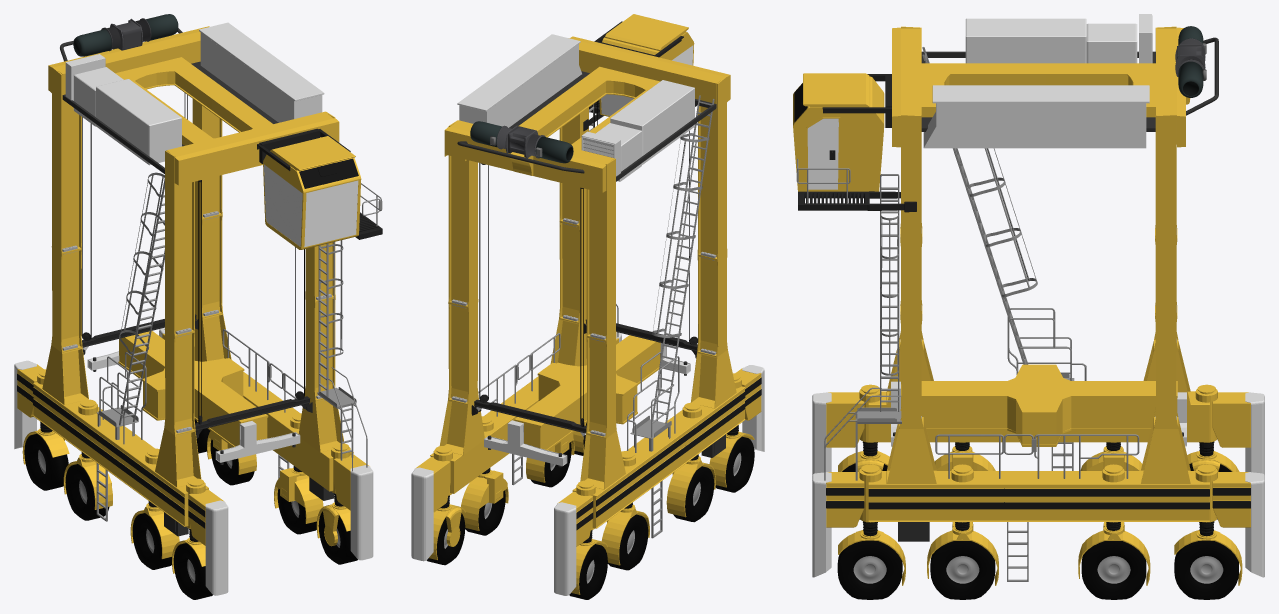
File: straddle carrier1.fbx
The picture shows the model from 3 angles, left to right: view 1: azimuth 30°, elevation 25°; view 2: azimuth 150°, elevation 25°; view 3: azimuth 270°, elevation 25°; orthographic projection. The views are drawn at different scales.
Parts seen in each view (by area): view 1: Cube.012, Plane.012, Cube.076, Cube.053, Cube.135, Cube.018, Cube.082, Cube.089, Cube.067, Cube.100, Cube, Cube.090 (+40 smaller); view 2: Cube.012, Plane.012, Cube.076, Cube.135, Cube.053, Cube.089, Cube.072, Cube.082, Cube.067, Cube.073, Cube.090, Cube.083 (+41 smaller); view 3: Cube, Cube.053, Cube.135, Cube.012, Plane.012, Cube.100, Cube.067, Cube.072, Cube.043, Cube.076, Cylinder, Cylinder.028 (+29 smaller).
Part boxes in pixels (x1,y1,x2,y2): Cube.012: (48, 26, 339, 185); Plane.012: (96, 172, 382, 521); Cube.076: (33, 382, 208, 526); Cube.053: (199, 22, 324, 122); Cube.135: (118, 331, 268, 447); Cube.018: (264, 164, 358, 247); Cube.082: (164, 150, 194, 336); Cube.089: (51, 67, 81, 253); Cube.067: (96, 79, 181, 165); Cube.100: (263, 136, 361, 249); Cube: (243, 372, 353, 491); Cube.090: (51, 247, 82, 352); Cube.012: (444, 36, 730, 192); Plane.012: (478, 95, 714, 538); Cube.076: (572, 386, 745, 528); Cube.135: (514, 335, 660, 450); Cube.053: (457, 34, 581, 127); Cube.089: (586, 158, 616, 341); Cube.072: (448, 120, 478, 307); Cube.082: (697, 76, 727, 259); Cube.067: (610, 80, 694, 164); Cube.073: (448, 301, 478, 404); Cube.090: (586, 335, 616, 438); Cube.083: (697, 253, 727, 357); Cube: (868, 471, 1209, 521); Cube.053: (923, 85, 1149, 148); Cube.135: (901, 364, 1177, 446); Cube.012: (892, 27, 1185, 147); Plane.012: (796, 47, 1139, 581); Cube.100: (793, 73, 884, 191); Cube.067: (965, 18, 1086, 63); Cube.072: (1155, 114, 1177, 317); Cube.043: (900, 114, 922, 317); Cube.076: (868, 391, 1209, 442); Cylinder: (837, 540, 902, 599); Cylinder.028: (1081, 541, 1146, 599).
Size of the model in its own units: 505 by 1276 by 1078.
